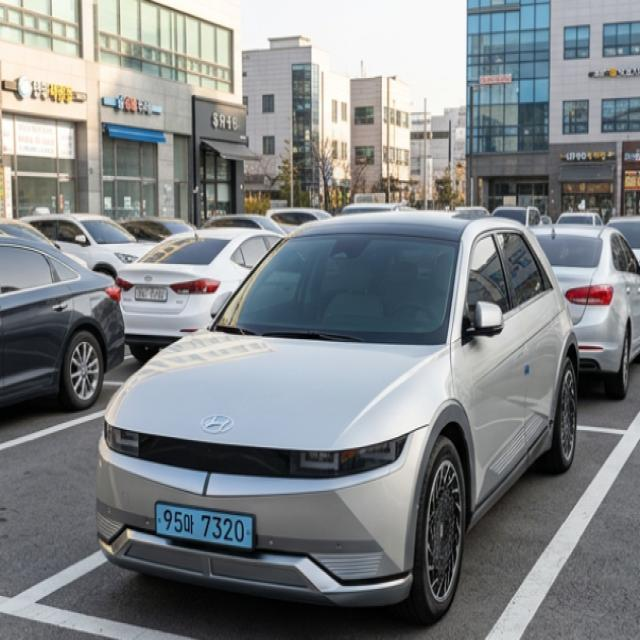car: (142, 493, 268, 561)
carev: (242, 513, 255, 550), (154, 500, 164, 536)
